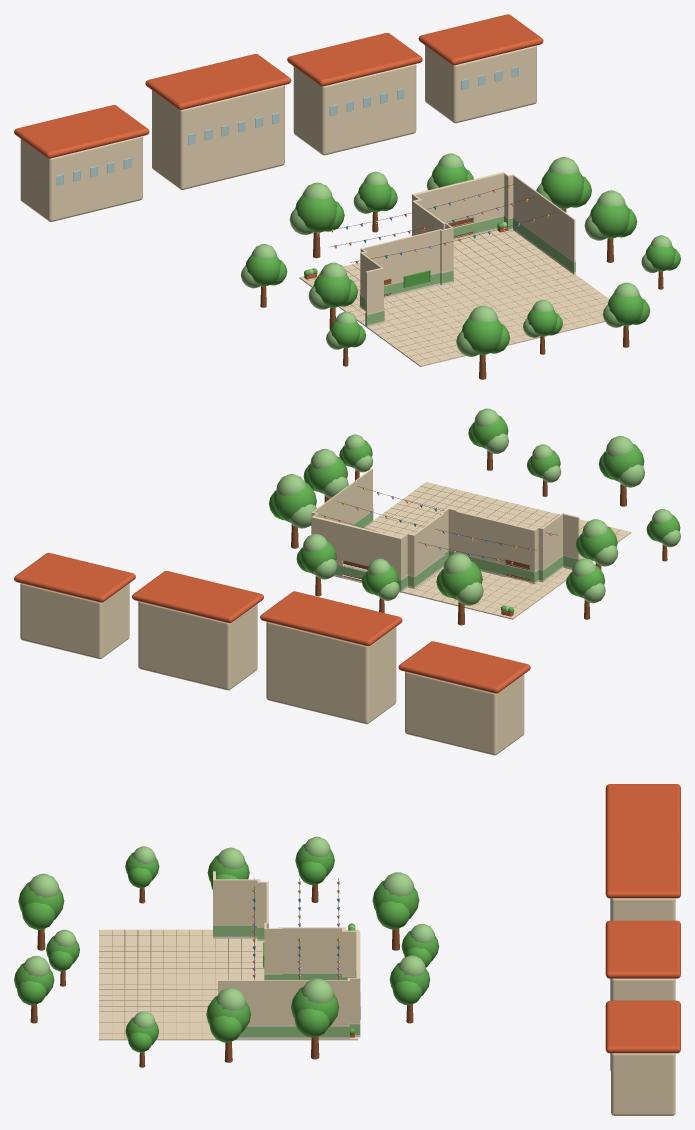
File: mo_office.glb
The picture shows the model from 3 angles, top to bottom: view 1: azimuth 30°, elevation 25°; view 2: azimuth 150°, elevation 25°; view 3: azimuth 270°, elevation 25°; orthographic projection. The views are drawn at different scales.
Visible parts, largest first — view 1: Floor-col.005, Walls-col.001, Block1.001, Block2.001, Block0.001, Block3, Block1Roof.001, Block2Roof.001, Block0Roof.001, Block3Roof, Walls-col.001Wain, Tree8Leaf0.001 (+12 smaller); view 2: Walls-col.001, Block1.001, Floor-col.005, Block2.001, Block0.001, Block3, Block1Roof.001, Block0Roof.001, Block2Roof.001, Block3Roof, Walls-col.001Wain, Tree8Leaf0.001 (+8 smaller); view 3: Floor-col.005, Walls-col.001, Block1Roof.001, Block2Roof.001, Block3, Block3Roof, Block0Roof.001, Walls-col.001Wain, Block1.001, Block2.001, Tree8Leaf2.001, Tree0Leaf2.001 (+17 smaller).
Boxes of the visible parts, box(x1,y1,x2,y2) form: Floor-col.005: box(299, 230, 609, 366); Walls-col.001: box(360, 172, 575, 327); Block1.001: box(152, 85, 284, 189); Block2.001: box(293, 64, 416, 155); Block0.001: box(20, 136, 142, 221); Block3: box(425, 45, 536, 123); Block1Roof.001: box(145, 54, 291, 109); Block2Roof.001: box(287, 32, 422, 86); Block0Roof.001: box(14, 105, 149, 158); Block3Roof: box(418, 14, 543, 65); Walls-col.001Wain: box(360, 216, 575, 326); Tree8Leaf0.001: box(541, 169, 584, 208); Walls-col.001: box(311, 468, 579, 592); Block1.001: box(266, 622, 396, 724); Floor-col.005: box(365, 482, 631, 619); Block2.001: box(138, 601, 257, 690); Block0.001: box(405, 671, 524, 755); Block3: box(20, 583, 129, 659); Block1Roof.001: box(260, 591, 402, 646); Block0Roof.001: box(398, 641, 530, 693); Block2Roof.001: box(132, 571, 263, 623); Block3Roof: box(14, 552, 135, 602); Walls-col.001Wain: box(335, 511, 579, 591); Tree8Leaf0.001: box(273, 482, 316, 522); Floor-col.005: box(99, 929, 358, 1040); Walls-col.001: box(213, 871, 360, 1039); Block1Roof.001: box(605, 835, 680, 898); Block2Roof.001: box(605, 920, 680, 978); Block3: box(611, 1053, 675, 1115); Block3Roof: box(605, 1000, 680, 1053); Block0Roof.001: box(605, 784, 680, 837); Walls-col.001Wain: box(213, 925, 360, 1037); Block1.001: box(611, 898, 675, 920); Block2.001: box(611, 978, 675, 1000); Tree8Leaf2.001: box(294, 1008, 329, 1037); Tree0Leaf2.001: box(376, 901, 410, 929).
Size of what is drawn, in the model's own units: 47.3 by 8.1 by 51.47.
